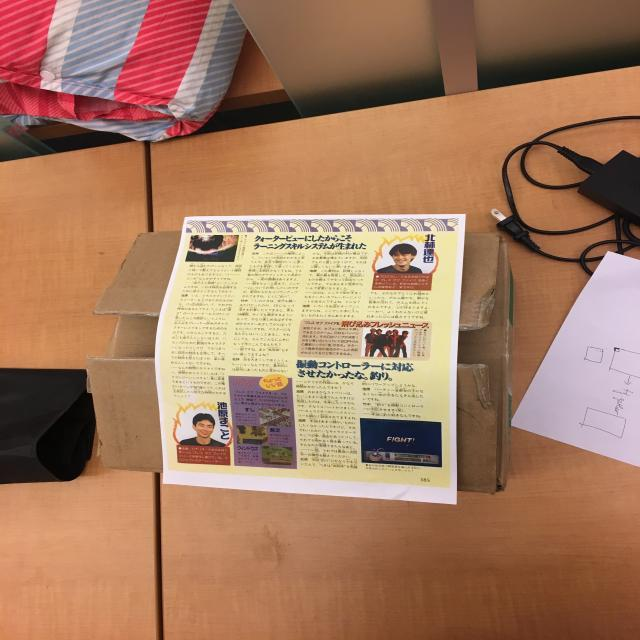document: (153, 215, 465, 504)
